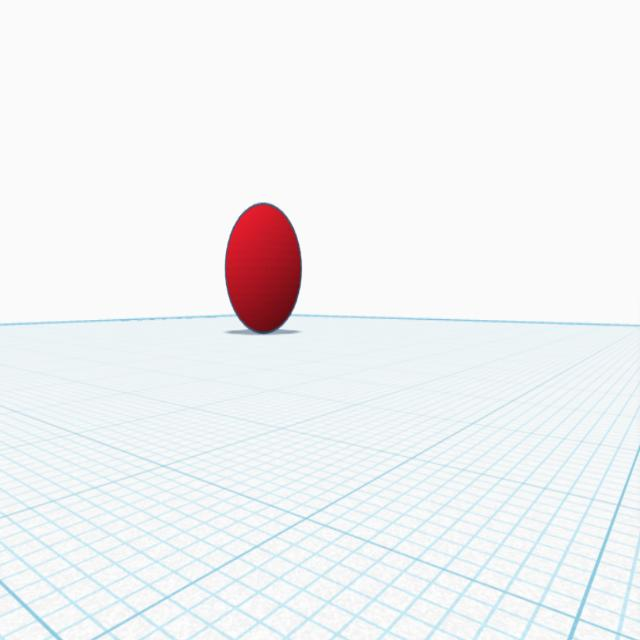sphere: (222, 196, 304, 336)
